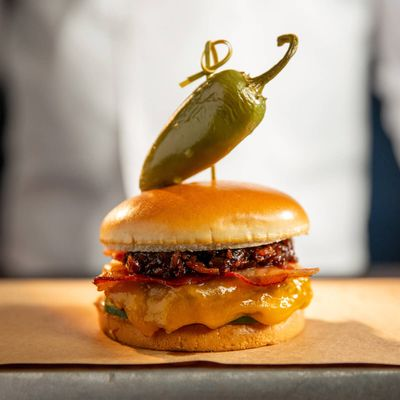soup: (91, 181, 318, 352)
